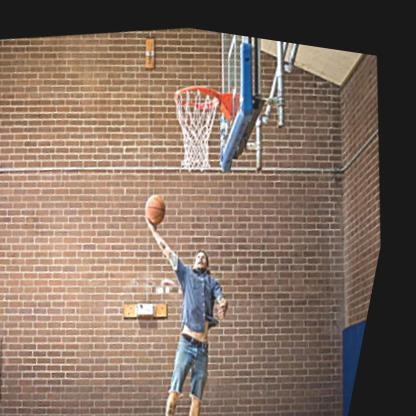basketball: (148, 185, 177, 222)
rim: (163, 71, 239, 168)
